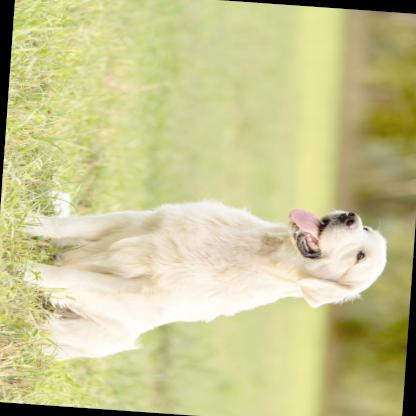DOG: (20, 185, 392, 385)
